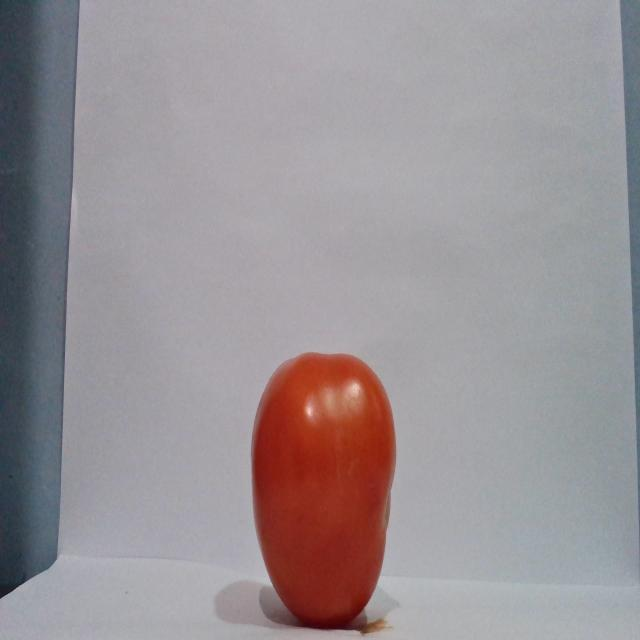Red: (249, 350, 397, 628)
